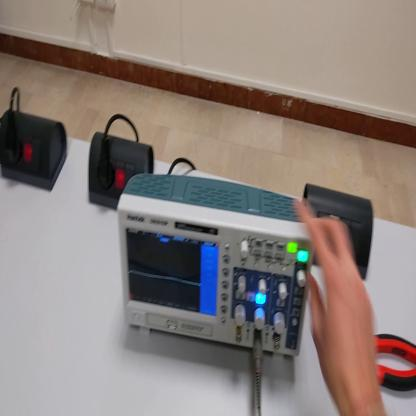hand: (296, 200, 381, 402)
oscilloscope: (116, 176, 311, 364)
pliers: (377, 334, 416, 393)
socket: (1, 109, 71, 194), (87, 130, 157, 209)
